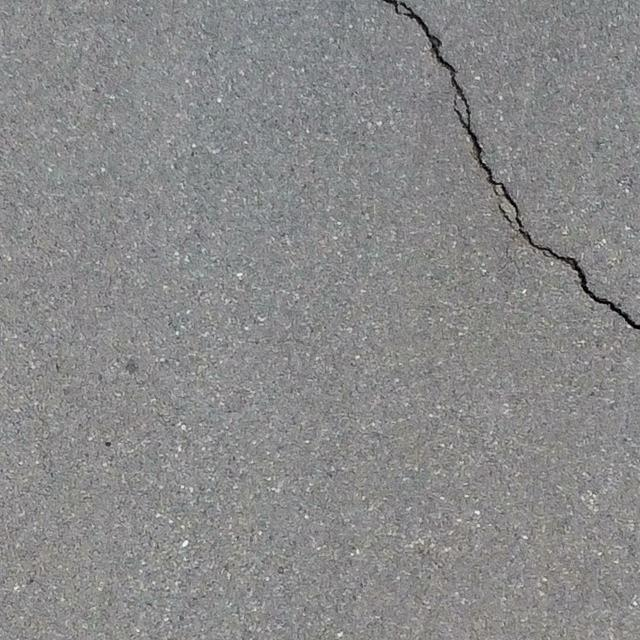LongitudinalCrack: (387, 1, 640, 329)
